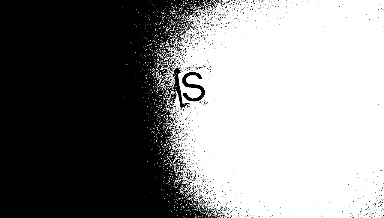S: (176, 69, 208, 102)
